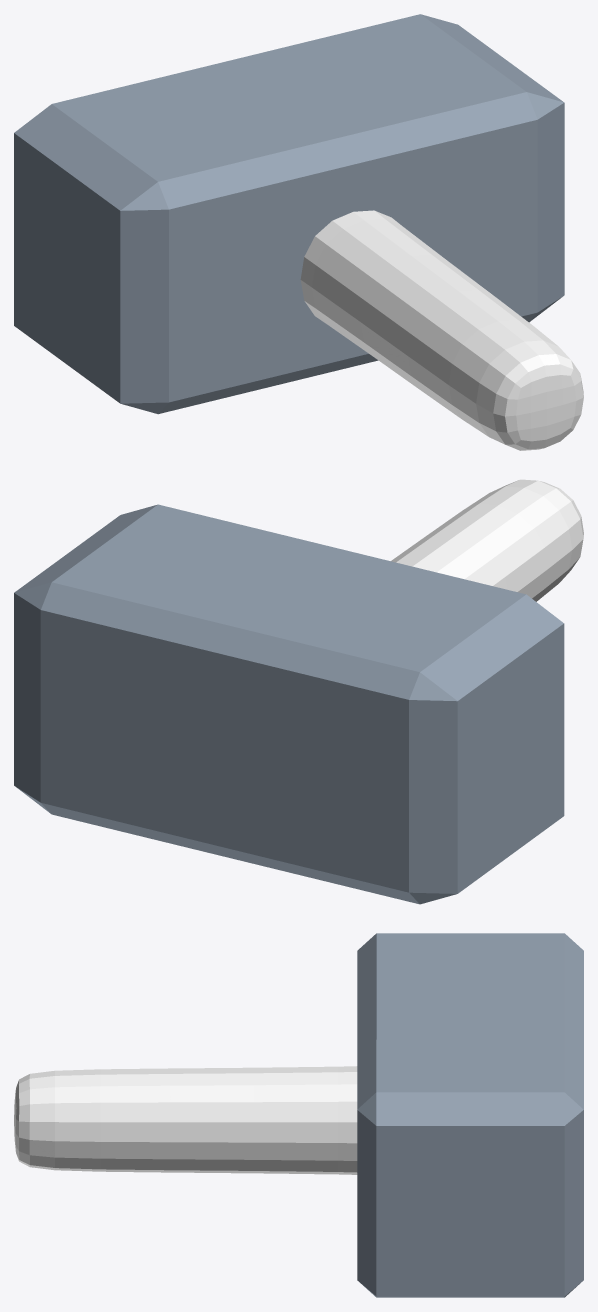
Rendered from Hammer_flat-1.fbx.
3 renders of one model, top to bottom at view 1: azimuth 30°, elevation 25°; view 2: azimuth 150°, elevation 25°; view 3: azimuth 270°, elevation 25°, orthographic. The views are drawn at different scales.
Visible parts, largest first — view 1: Cube.216; view 2: Cube.216; view 3: Cube.216.
Boxes of the visible parts, x1,y1,x2,y2 form: Cube.216: [14, 14, 583, 450]; Cube.216: [14, 479, 583, 904]; Cube.216: [14, 933, 583, 1297].
Bounding box in the file's own units: 20 × 10 × 25.15.
